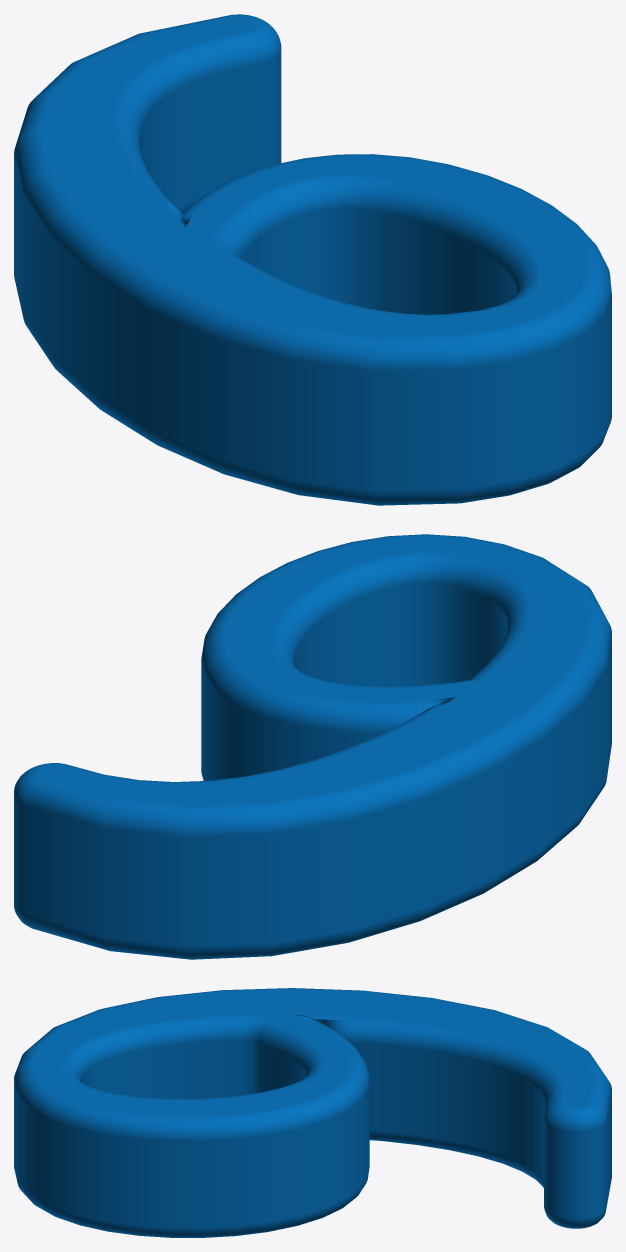
3 renders of one model, top to bottom at view 1: azimuth 30°, elevation 25°; view 2: azimuth 150°, elevation 25°; view 3: azimuth 270°, elevation 25°, orthographic. The views are drawn at different scales.
Parts seen in each view (by area): view 1: 1; view 2: 1; view 3: 1.
Boxes of the visible parts, <box> form: 1: <box>14,14,611,505</box>; 1: <box>14,534,611,959</box>; 1: <box>14,988,611,1237</box>.
Bounding box in the file's own units: 85.05 × 33.4 × 151.
